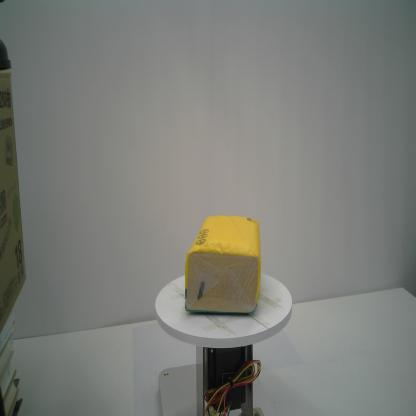Tissue: (183, 214, 262, 317)
